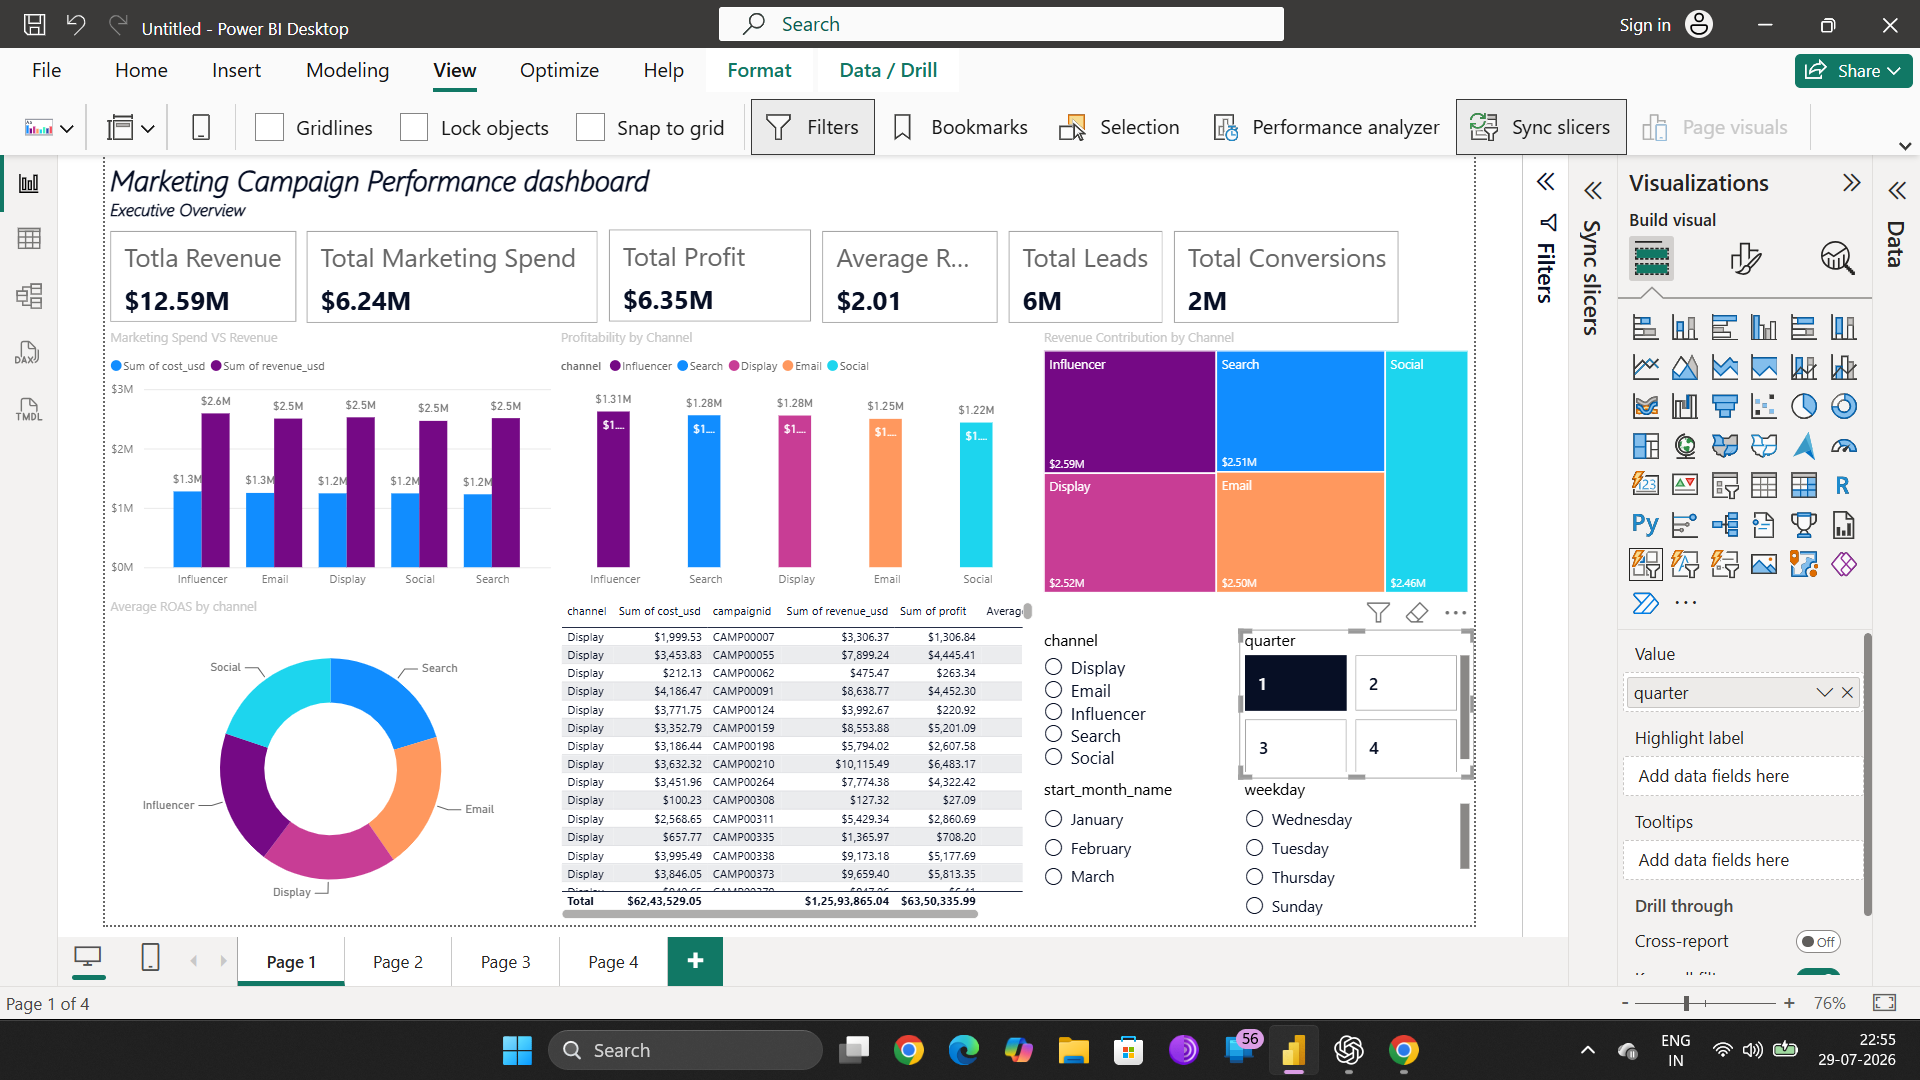

This screenshot's page, from the dashboard's own definition file:
{"tool":"powerbi","page":{"name":"Page 1","canvas":[1280,720],"ordinal":0},"visuals":[{"type":"cardVisual","fields":{"Data":["Sum(marketing_campaign_engineered.leads)"]},"box":[840,66,154.5,96.4],"z":0},{"type":"cardVisual","fields":{"Data":["Sum(marketing_campaign_engineered.cost_usd)"]},"box":[183.6,66,282.6,96.4],"z":1000},{"type":"cardVisual","fields":{"Data":["Avg(marketing_campaign_engineered.roas)"]},"box":[665.7,66,174.3,96.4],"z":2000},{"type":"cardVisual","fields":{"Data":["Sum(marketing_campaign_engineered.conversions)"]},"box":[994.5,66,220.6,96.4],"z":3000},{"type":"cardVisual","fields":{"Data":["Sum(marketing_campaign_engineered.profit)"]},"box":[466.2,64.7,199.4,96.4],"z":4000},{"type":"cardVisual","fields":{"Data":["Sum(marketing_campaign_engineered.revenue_usd)"]},"box":[0,66.4,184,95.5],"z":5000},{"type":"textbox","box":[0,0,1170.5,66.4],"z":6000},{"type":"treemap","title":"Revenue Contribution by Channel","fields":{"Values":["Sum(marketing_campaign_engineered.revenue_usd)"],"Group":["marketing_campaign_engineered.channel"]},"box":[873,161.9,406.8,251.8],"z":7000},{"type":"clusteredColumnChart","title":"Marketing Spend VS Revenue","fields":{"Category":["marketing_campaign_engineered.channel"],"Y":["Sum(marketing_campaign_engineered.cost_usd)","Sum(marketing_campaign_engineered.revenue_usd)"]},"box":[0,161.9,422,251.8],"z":8000},{"type":"ribbonChart","title":"Profitability by Channel","fields":{"Category":["marketing_campaign_engineered.channel"],"Series":["marketing_campaign_engineered.channel"],"Y":["Sum(marketing_campaign_engineered.profit)"]},"box":[422,161.9,451,251.8],"z":9000},{"type":"donutChart","title":"Average ROAS by channel","fields":{"Category":["marketing_campaign_engineered.channel"],"Y":["Avg(marketing_campaign_engineered.roas)"]},"box":[0,413.7,422,305.8],"z":10000},{"type":"tableEx","fields":{"Values":["marketing_campaign_engineered.channel","Sum(marketing_campaign_engineered.cost_usd)","marketing_campaign_engineered.campaignid","Sum(marketing_campaign_engineered.revenue_usd)","Sum(marketing_campaign_engineered.profit)","Avg(marketing_campaign_engineered.roas)"]},"box":[422,413.7,451,305.8],"z":11000},{"type":"advancedSlicerVisual","fields":{"Values":["marketing_campaign_engineered.quarter"]},"box":[1060,444.3,220,138.6],"z":11001},{"type":"listSlicer","fields":{"Values":["marketing_campaign_engineered.channel"]},"box":[872.9,444.3,187.1,138.6],"z":11002},{"type":"listSlicer","fields":{"Values":["marketing_campaign_engineered.start_month_name"]},"box":[872.9,582.9,187.1,137.1],"z":11003},{"type":"listSlicer","fields":{"Values":["marketing_campaign_engineered.weekday"]},"box":[1060,582.9,220,137.1],"z":11004}]}

Visuals, with their boxes on the page's 1280x720 design canvas (x1, y1, x2, y2). These are canvas units, not pixel positions in the 1920x1080 screenshot, which may show the page scaled, cropped or inside an application window:
cardVisual - Sum(marketing_campaign_engineered.leads): [left=840, top=66, right=994, bottom=162]
cardVisual - Sum(marketing_campaign_engineered.cost_usd): [left=184, top=66, right=466, bottom=162]
cardVisual - Avg(marketing_campaign_engineered.roas): [left=666, top=66, right=840, bottom=162]
cardVisual - Sum(marketing_campaign_engineered.conversions): [left=994, top=66, right=1215, bottom=162]
cardVisual - Sum(marketing_campaign_engineered.profit): [left=466, top=65, right=666, bottom=161]
cardVisual - Sum(marketing_campaign_engineered.revenue_usd): [left=0, top=66, right=184, bottom=162]
textbox: [left=0, top=0, right=1170, bottom=66]
"Revenue Contribution by Channel" treemap: [left=873, top=162, right=1280, bottom=414]
"Marketing Spend VS Revenue" clusteredColumnChart: [left=0, top=162, right=422, bottom=414]
"Profitability by Channel" ribbonChart: [left=422, top=162, right=873, bottom=414]
"Average ROAS by channel" donutChart: [left=0, top=414, right=422, bottom=720]
tableEx - marketing_campaign_engineered.channel x Sum(marketing_campaign_engineered.cost_usd): [left=422, top=414, right=873, bottom=720]
advancedSlicerVisual - marketing_campaign_engineered.quarter: [left=1060, top=444, right=1280, bottom=583]
listSlicer - marketing_campaign_engineered.channel: [left=873, top=444, right=1060, bottom=583]
listSlicer - marketing_campaign_engineered.start_month_name: [left=873, top=583, right=1060, bottom=720]
listSlicer - marketing_campaign_engineered.weekday: [left=1060, top=583, right=1280, bottom=720]
